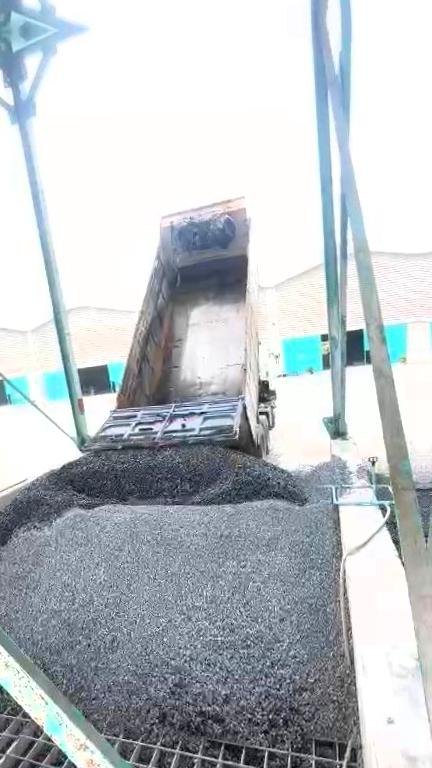gravel: (0, 446, 356, 744), (154, 318, 174, 403), (0, 643, 7, 703)
